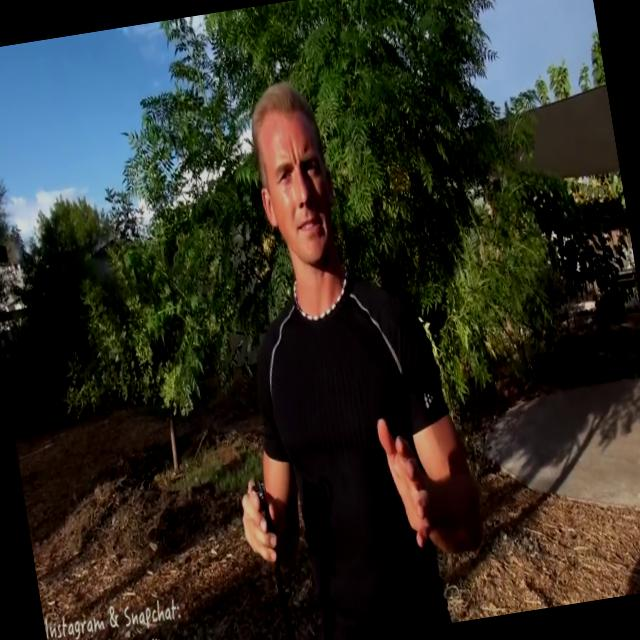knife: (244, 461, 309, 639)
